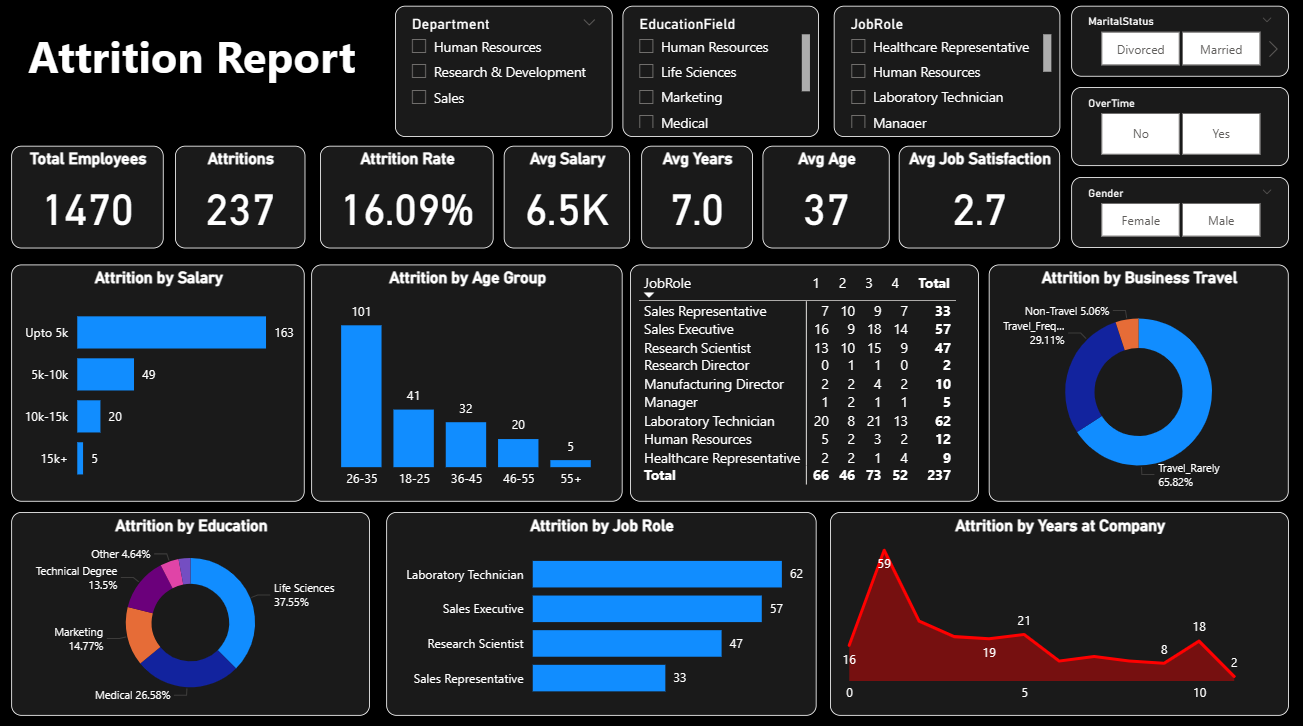

Layout of this report page (visuals, bound fields, positions):
{"tool":"powerbi","page":{"name":"Page 1","canvas":[1280,720],"ordinal":0},"visuals":[{"type":"card","title":"Total Employees","fields":{"Values":["Count(Cleaned Data.EmpID)"]},"box":[11,146,149.7,100.6],"z":0},{"type":"card","title":"Attritions","fields":{"Values":["Sum(Cleaned Data.Attrition_Count)"]},"box":[171.8,146,127.6,100.6],"z":1000},{"type":"card","title":"Attrition Rate","fields":{"Values":["Cleaned Data.Attrition_Rate"]},"box":[314.1,146,170.6,100.6],"z":2000},{"type":"card","title":"Avg Salary","fields":{"Values":["Avg(Cleaned Data.MonthlyIncome)"]},"box":[494.5,146,123.9,100.6],"z":3000},{"type":"card","title":"Avg Years","fields":{"Values":["Avg(Cleaned Data.YearsAtCompany)"]},"box":[629.5,146,109.2,100.6],"z":4000},{"type":"card","title":"Avg Age","fields":{"Values":["Avg(Cleaned Data.Age)"]},"box":[748.5,146,125.2,100.6],"z":5000},{"type":"card","title":"Avg Job Satisfaction","fields":{"Values":["Avg(Cleaned Data.JobSatisfaction)"]},"box":[882.2,146,158.3,100.6],"z":6000},{"type":"barChart","title":"Attrition by Salary","fields":{"Category":["Cleaned Data.SalarySlab"],"Y":["Sum(Cleaned Data.Attrition_Count)"]},"box":[11,262.6,288.3,233.1],"z":7000},{"type":"barChart","title":"Attrition by Job Role","fields":{"Y":["Sum(Cleaned Data.Attrition_Count)"],"Category":["Cleaned Data.JobRole"]},"box":[379.1,505.5,422.1,200],"z":8000},{"type":"columnChart","title":"Attrition by Age Group","fields":{"Category":["Cleaned Data.AgeGroup"],"Y":["Sum(Cleaned Data.Attrition_Count)"]},"box":[305.5,262.6,305.5,233.1],"z":9000},{"type":"donutChart","title":"Attrition by Education","fields":{"Category":["Cleaned Data.EducationField"],"Y":["Sum(Cleaned Data.Attrition_Count)"]},"box":[11,505.5,352.1,200],"z":10000},{"type":"pivotTable","fields":{"Rows":["Cleaned Data.JobRole"],"Columns":["Cleaned Data.JobSatisfaction"],"Values":["Sum(Cleaned Data.Attrition_Count)"]},"box":[618.4,262.6,342.3,233.1],"z":11000},{"type":"areaChart","title":"Attrition by Years at Company","fields":{"Category":["Cleaned Data.YearsAtCompany"],"Y":["Sum(Cleaned Data.Attrition_Count)"]},"box":[814.7,505.5,450.3,200],"z":12000},{"type":"slicer","fields":{"Values":["Cleaned Data.Gender"]},"box":[1051.5,176.7,213.5,69.9],"z":13000},{"type":"donutChart","title":"Attrition by Business Travel","fields":{"Y":["Sum(Cleaned Data.Attrition_Count)"],"Category":["Cleaned Data.BusinessTravel"]},"box":[970.6,262.6,294.5,233.1],"z":14000},{"type":"slicer","fields":{"Values":["Cleaned Data.OverTime"]},"box":[1051.5,88.3,213.5,77.3],"z":15000},{"type":"slicer","fields":{"Values":["Cleaned Data.MaritalStatus"]},"box":[1051.5,8.6,213.5,69.9],"z":16000},{"type":"slicer","fields":{"Values":["Cleaned Data.EducationField"]},"box":[611,8.6,192.6,128.8],"z":17000},{"type":"slicer","fields":{"Values":["Cleaned Data.Department"]},"box":[387.7,8.6,213.5,128.8],"z":18000},{"type":"slicer","fields":{"Values":["Cleaned Data.JobRole"]},"box":[818.4,8.6,222.1,128.8],"z":19000},{"type":"textbox","box":[11,8.6,368.1,128.8],"z":20000}]}

Visuals, with their boxes in screenshot pixels (x1, y1, x2, y2), scaled from the page's 1280x720 canvas onto the 1303x726 screenshot:
"Total Employees" card: 11:147:164:249
"Attritions" card: 175:147:305:249
"Attrition Rate" card: 320:147:493:249
"Avg Salary" card: 503:147:630:249
"Avg Years" card: 641:147:752:249
"Avg Age" card: 762:147:889:249
"Avg Job Satisfaction" card: 898:147:1059:249
"Attrition by Salary" barChart: 11:265:305:500
"Attrition by Job Role" barChart: 386:510:816:711
"Attrition by Age Group" columnChart: 311:265:622:500
"Attrition by Education" donutChart: 11:510:370:711
pivotTable - Cleaned Data.JobRole x Cleaned Data.JobSatisfaction: 630:265:978:500
"Attrition by Years at Company" areaChart: 829:510:1288:711
slicer - Cleaned Data.Gender: 1070:178:1288:249
"Attrition by Business Travel" donutChart: 988:265:1288:500
slicer - Cleaned Data.OverTime: 1070:89:1288:167
slicer - Cleaned Data.MaritalStatus: 1070:9:1288:79
slicer - Cleaned Data.EducationField: 622:9:818:139
slicer - Cleaned Data.Department: 395:9:612:139
slicer - Cleaned Data.JobRole: 833:9:1059:139
textbox: 11:9:386:139
